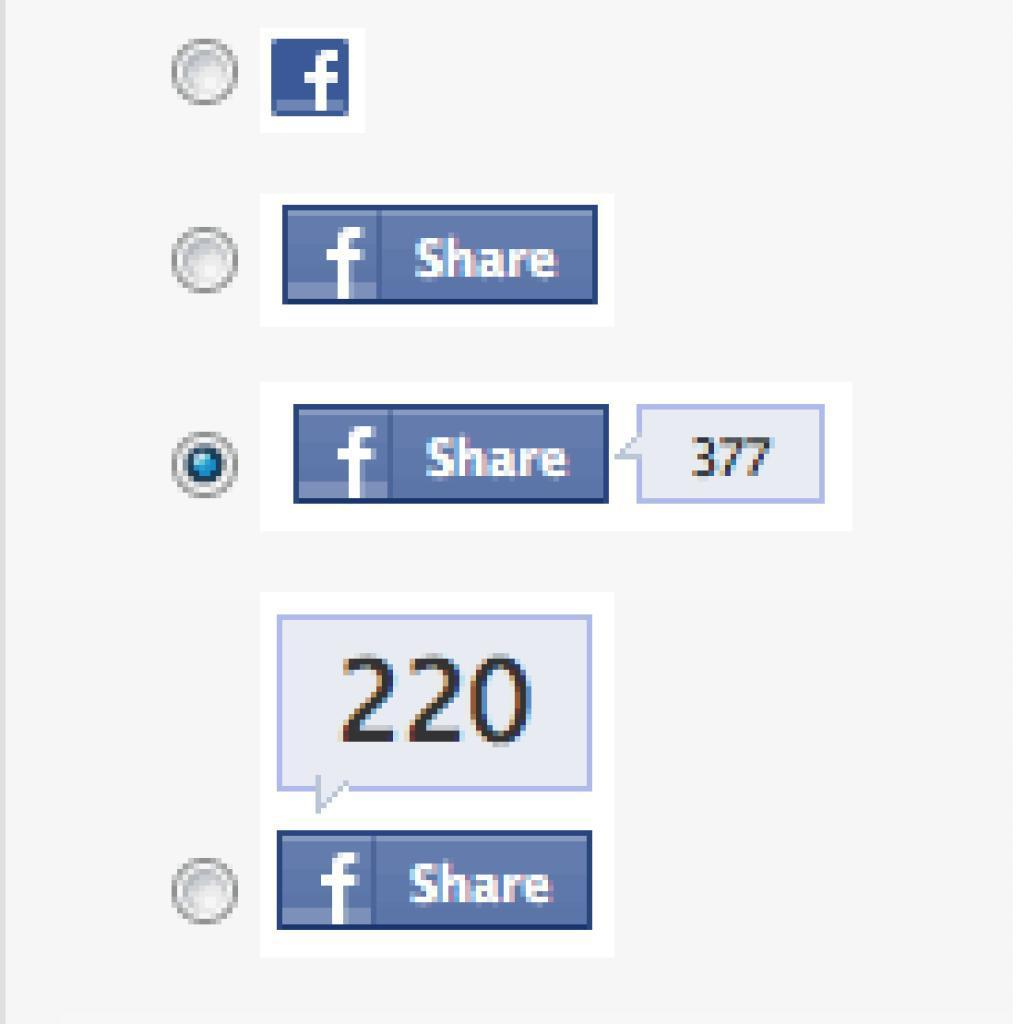button: (283, 203, 601, 306), (275, 831, 595, 933), (293, 403, 611, 505)
radio: (171, 35, 242, 112), (172, 226, 242, 301), (170, 432, 240, 500), (171, 857, 239, 927)
